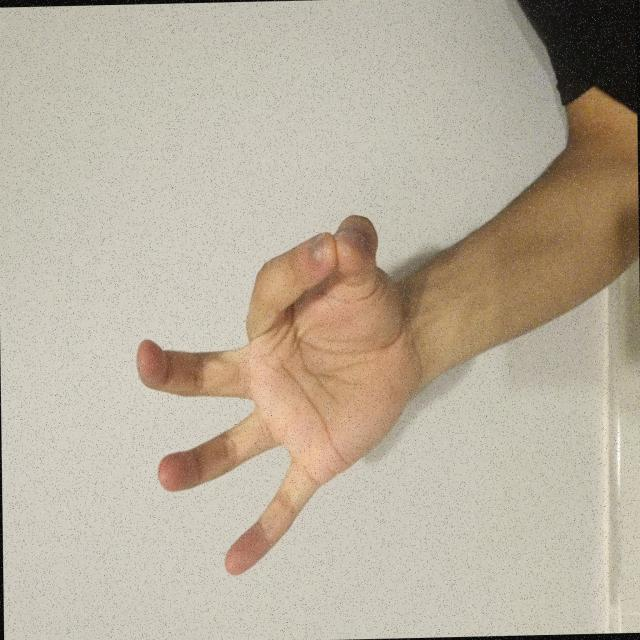F: (45, 177, 325, 573)
